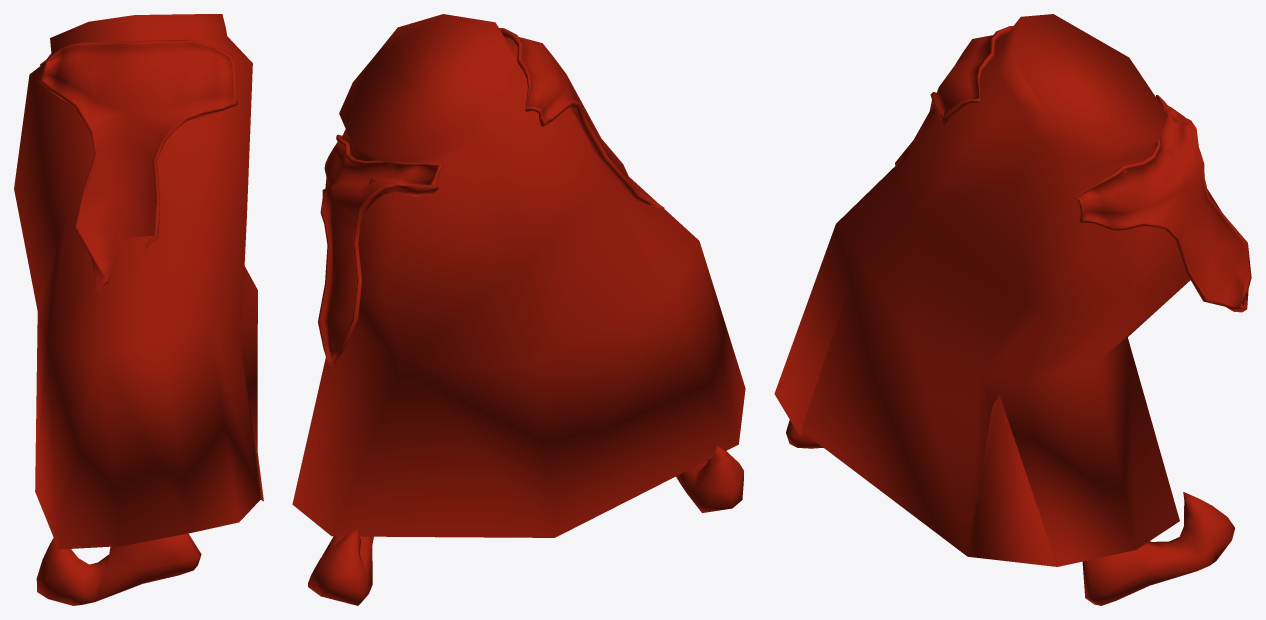
File: bot_000053.obj
3 renders of one model, left to right at view 1: azimuth 30°, elevation 25°; view 2: azimuth 150°, elevation 25°; view 3: azimuth 270°, elevation 25°, orthographic. The views are drawn at different scales.
Parts seen in each view (by area): view 1: LowPoly_Warlock.004_Plane.004; view 2: LowPoly_Warlock.004_Plane.004; view 3: LowPoly_Warlock.004_Plane.004.
Part boxes in pixels (x1,y1,x2,y2): LowPoly_Warlock.004_Plane.004: (14,14,263,605); LowPoly_Warlock.004_Plane.004: (292,14,745,605); LowPoly_Warlock.004_Plane.004: (774,14,1251,605).
Bounding box in the file's own units: 0.6757 × 1.13 × 0.9115.
